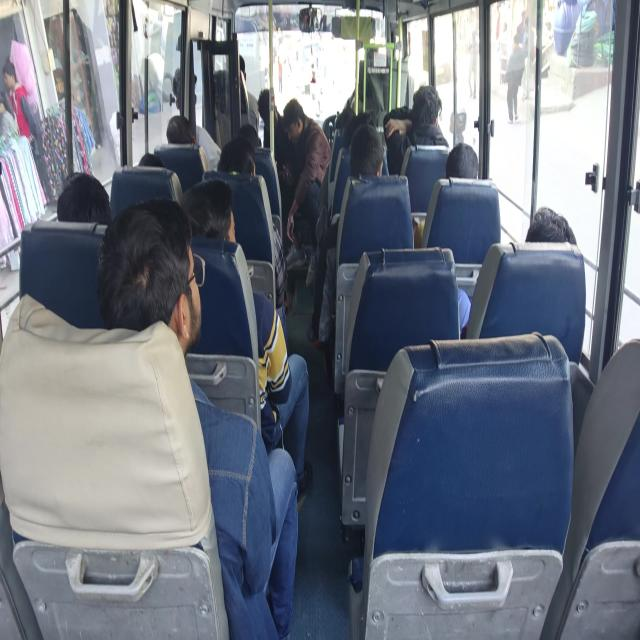person: (96, 198, 299, 638), (181, 178, 312, 500), (308, 123, 384, 348), (217, 135, 290, 350), (458, 206, 577, 336), (281, 97, 331, 250), (412, 142, 479, 247), (3, 59, 51, 203), (383, 84, 449, 175), (166, 67, 222, 171), (257, 88, 294, 185), (56, 171, 112, 225), (2, 59, 34, 142), (525, 206, 577, 245), (504, 34, 526, 123), (217, 136, 256, 176), (444, 142, 478, 178)
